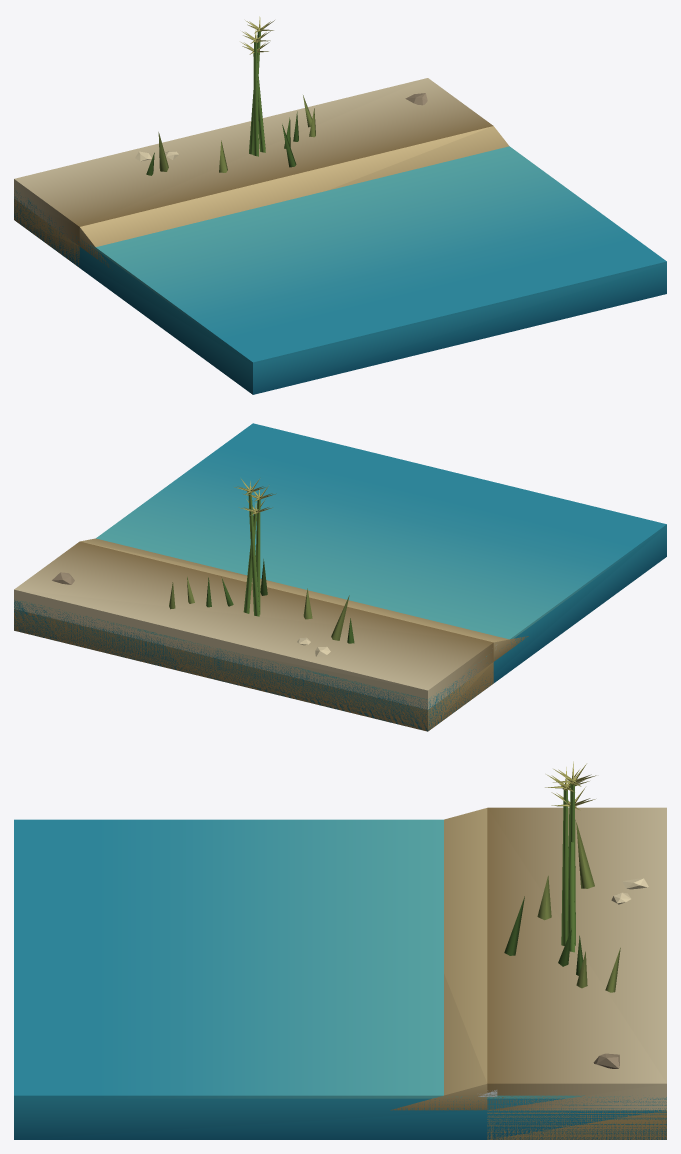
File: shore-straight-oasis-tile.glb
The picture shows the model from 3 angles, top to bottom: view 1: azimuth 30°, elevation 25°; view 2: azimuth 150°, elevation 25°; view 3: azimuth 270°, elevation 25°; orthographic projection. The views are drawn at different scales.
Parts seen in each view (by area): view 1: shore_straight_oasis_tile; view 2: shore_straight_oasis_tile; view 3: shore_straight_oasis_tile.
Boxes of the visible parts, x1,y1,x2,y2 form: shore_straight_oasis_tile: (14,16,666,394); shore_straight_oasis_tile: (14,423,666,731); shore_straight_oasis_tile: (14,761,666,1139).
Bounding box in the file's own units: 4 × 1.59 × 4.
